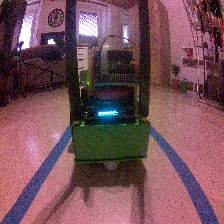rob: (71, 64, 151, 173)
